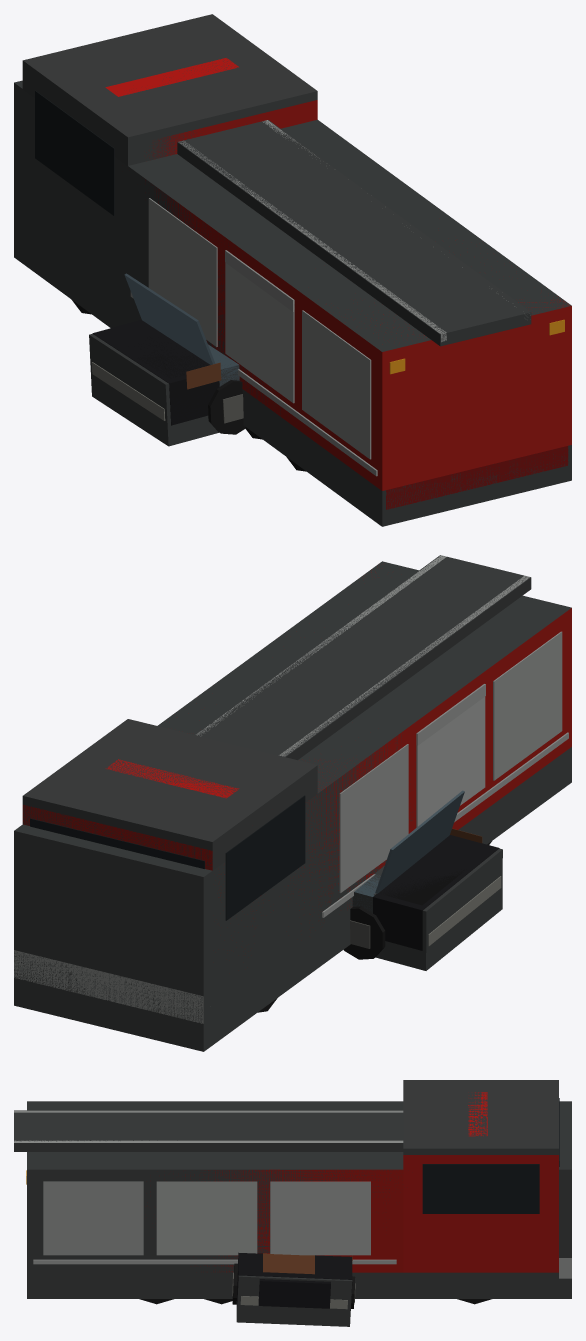
Rendered from containers.glb.
3 views of the same model, one above another, from view 1: azimuth 30°, elevation 25°; view 2: azimuth 150°, elevation 25°; view 3: azimuth 270°, elevation 25° (orthographic). The views are drawn at different scales.
Parts seen in each view (by area): view 1: CONTAINER_FireEngine_Hull, CONTAINER_FireEngine, CONTAINER_Car_Hull, CONTAINER_CopCar, CONTAINER_Car, CONTAINER_Car_Open, CONTAINER_CopCar_Open, CONTAINER_FireEngine_Open; view 2: CONTAINER_FireEngine_Hull, CONTAINER_FireEngine, CONTAINER_Car_Hull, CONTAINER_CopCar, CONTAINER_Car_Open, CONTAINER_Car, CONTAINER_FireEngine_Open, CONTAINER_CopCar_Open; view 3: CONTAINER_FireEngine_Hull, CONTAINER_FireEngine, CONTAINER_CopCar, CONTAINER_Car_Hull, CONTAINER_Car.
Boxes of the visible parts, x1=… form: CONTAINER_FireEngine_Hull: x1=14, y1=14, x2=571, y2=526; CONTAINER_FireEngine: x1=35, y1=58, x2=571, y2=509; CONTAINER_Car_Hull: x1=89, y1=334, x2=239, y2=446; CONTAINER_CopCar: x1=92, y1=320, x2=219, y2=425; CONTAINER_Car: x1=91, y1=344, x2=245, y2=434; CONTAINER_Car_Open: x1=124, y1=273, x2=215, y2=377; CONTAINER_CopCar_Open: x1=169, y1=379, x2=219, y2=424; CONTAINER_FireEngine_Open: x1=225, y1=250, x2=294, y2=311; CONTAINER_FireEngine_Hull: x1=14, y1=555, x2=571, y2=1051; CONTAINER_FireEngine: x1=14, y1=555, x2=571, y2=1023; CONTAINER_Car_Hull: x1=352, y1=848, x2=502, y2=970; CONTAINER_CopCar: x1=373, y1=835, x2=499, y2=950; CONTAINER_Car_Open: x1=375, y1=790, x2=464, y2=905; CONTAINER_Car: x1=343, y1=828, x2=501, y2=959; CONTAINER_FireEngine_Open: x1=416, y1=684, x2=485, y2=745; CONTAINER_CopCar_Open: x1=373, y1=897, x2=422, y2=945; CONTAINER_FireEngine_Hull: x1=14, y1=1080, x2=571, y2=1298; CONTAINER_FireEngine: x1=14, y1=1092, x2=571, y2=1304; CONTAINER_CopCar: x1=237, y1=1252, x2=352, y2=1310; CONTAINER_Car_Hull: x1=236, y1=1275, x2=352, y2=1326; CONTAINER_Car: x1=232, y1=1253, x2=355, y2=1309.
Bounding box in the file's own units: 4.5 × 2.74 × 8.6.
